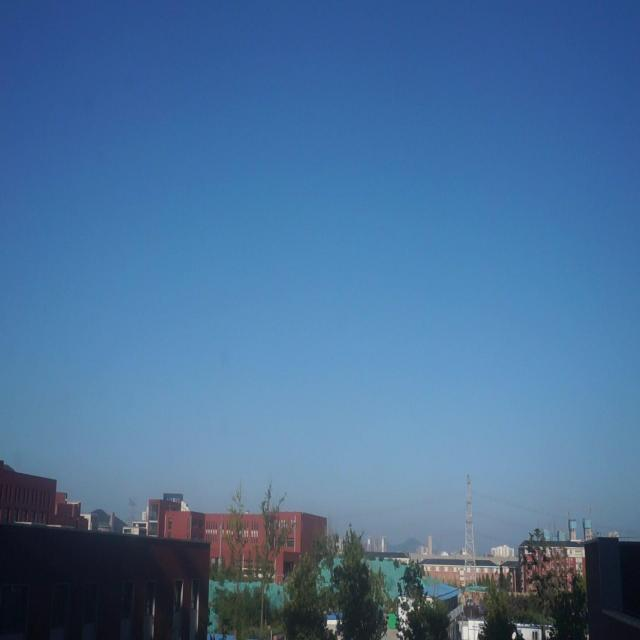UAV: (398, 576, 412, 582)
